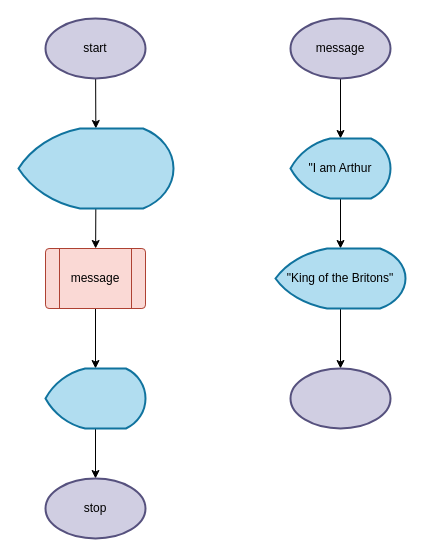
Image size: 423x556. Some labels were removed from this diagram. Here are the shapes that lost their labels. From the top down, the box of each, then its label:
(17, 127, 174, 209): "I have message for you"
(44, 367, 146, 429): "Good bye"
(289, 367, 391, 429): Return
